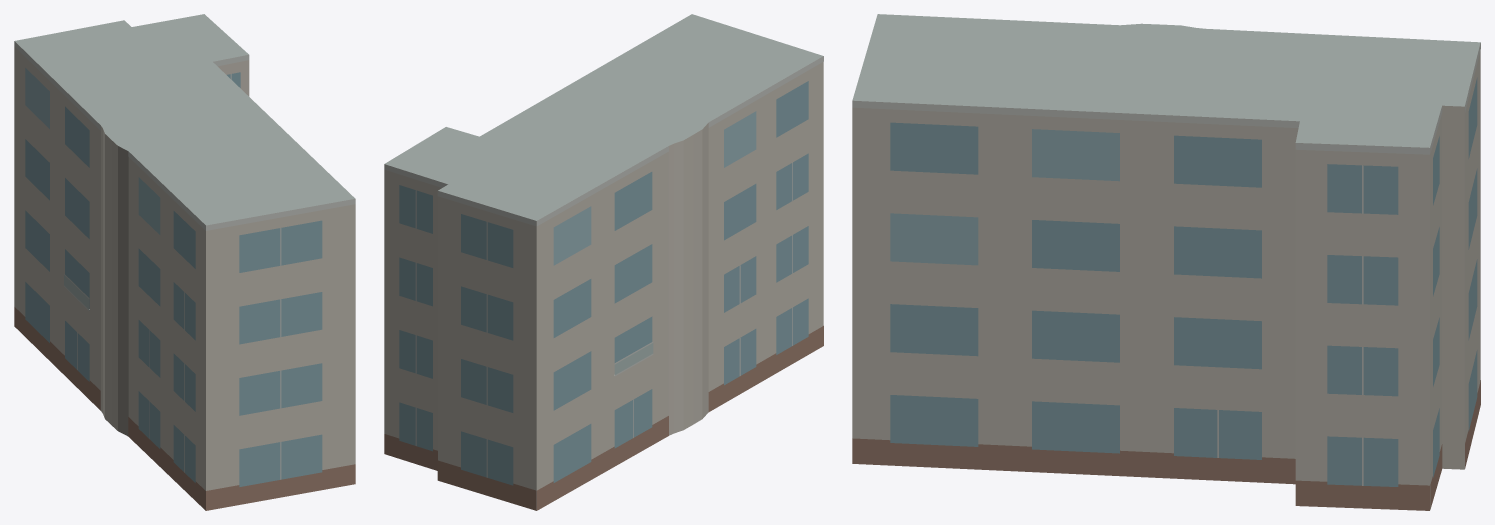
The model's file is survey-upis-32816606.glb.
3 renders of one model, left to right at view 1: azimuth 30°, elevation 25°; view 2: azimuth 150°, elevation 25°; view 3: azimuth 270°, elevation 25°, orthographic. The views are drawn at different scales.
Visible parts, largest first — view 1: survey-upis-32816606.tmp; view 2: survey-upis-32816606.tmp; view 3: survey-upis-32816606.tmp.
Part boxes in pixels (bbox=[...]): survey-upis-32816606.tmp: bbox=[14, 14, 355, 510]; survey-upis-32816606.tmp: bbox=[384, 14, 823, 510]; survey-upis-32816606.tmp: bbox=[852, 14, 1480, 510].
Size of the model in its own units: 10.13 by 12.8 by 20.09.
